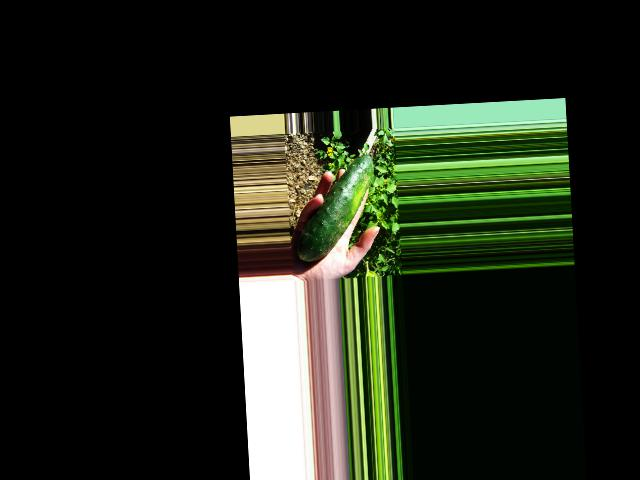cucumber: (292, 153, 378, 261)
